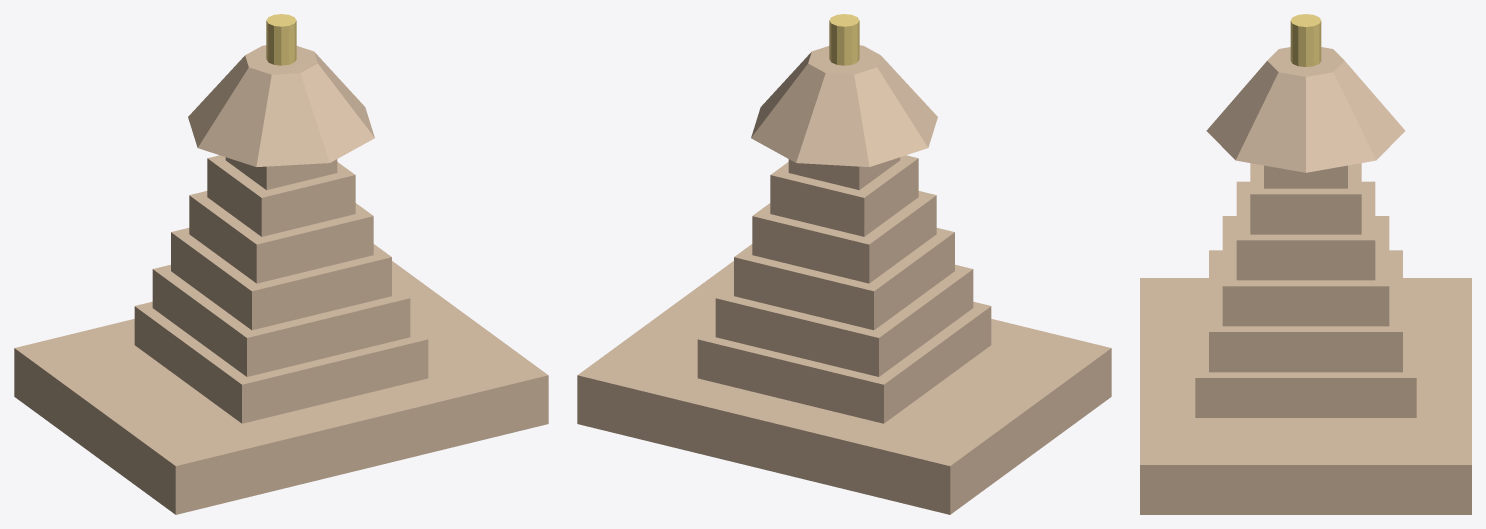
The model's file is dravidian_s3.glb.
3 renders of one model, left to right at view 1: azimuth 30°, elevation 25°; view 2: azimuth 150°, elevation 25°; view 3: azimuth 270°, elevation 25°, orthographic. The views are drawn at different scales.
Parts seen in each view (by area): view 1: Cube, Cone, Cube.001, Cube.002, Cube.003, Cube.004, Cube.005, Cube.006, Cylinder; view 2: Cube, Cone, Cube.001, Cube.002, Cube.003, Cube.004, Cube.005, Cube.006, Cylinder; view 3: Cube, Cone, Cube.001, Cube.002, Cube.003, Cube.004, Cube.005, Cube.006, Cylinder.
Boxes of the visible parts, bbox=[...] form: Cube: bbox=[14, 261, 548, 514]; Cone: bbox=[188, 45, 374, 166]; Cube.001: bbox=[134, 301, 428, 423]; Cube.002: bbox=[152, 264, 410, 376]; Cube.003: bbox=[171, 228, 391, 330]; Cube.004: bbox=[189, 191, 373, 283]; Cube.005: bbox=[207, 155, 355, 236]; Cube.006: bbox=[225, 157, 337, 190]; Cylinder: bbox=[266, 14, 296, 65]; Cube: bbox=[577, 261, 1111, 514]; Cone: bbox=[751, 45, 937, 166]; Cube.001: bbox=[697, 301, 991, 423]; Cube.002: bbox=[715, 264, 973, 376]; Cube.003: bbox=[734, 228, 954, 330]; Cube.004: bbox=[752, 191, 936, 283]; Cube.005: bbox=[770, 155, 918, 236]; Cube.006: bbox=[788, 157, 900, 190]; Cylinder: bbox=[829, 14, 859, 65]; Cube: bbox=[1140, 278, 1471, 514]; Cone: bbox=[1206, 47, 1405, 172]; Cube.001: bbox=[1195, 284, 1416, 417]; Cube.002: bbox=[1209, 250, 1402, 372]; Cube.003: bbox=[1222, 216, 1389, 326]; Cube.004: bbox=[1236, 181, 1375, 280]; Cube.005: bbox=[1250, 163, 1361, 234]; Cube.006: bbox=[1264, 165, 1347, 188]; Cylinder: bbox=[1290, 14, 1321, 66].
Size of the model in its own units: 4 by 4 by 3.
